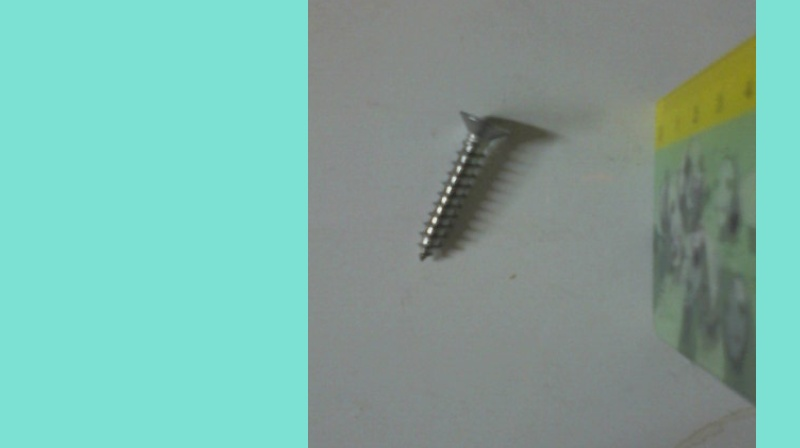S001: (411, 105, 510, 264)
